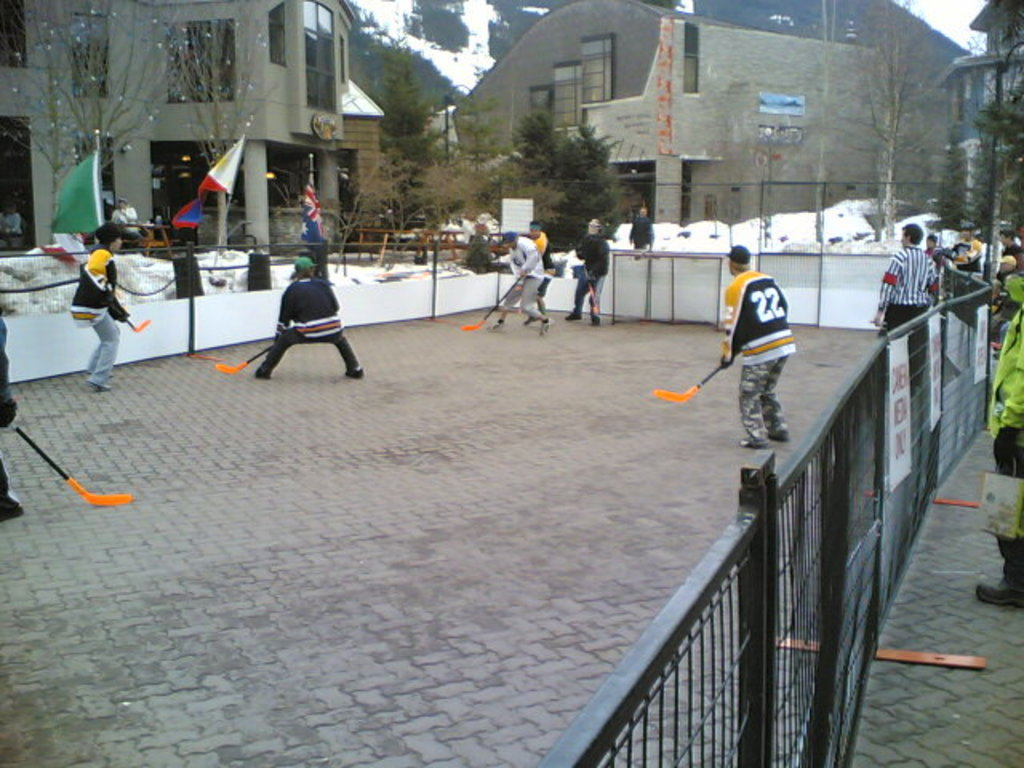Person: (0, 199, 1023, 607)
